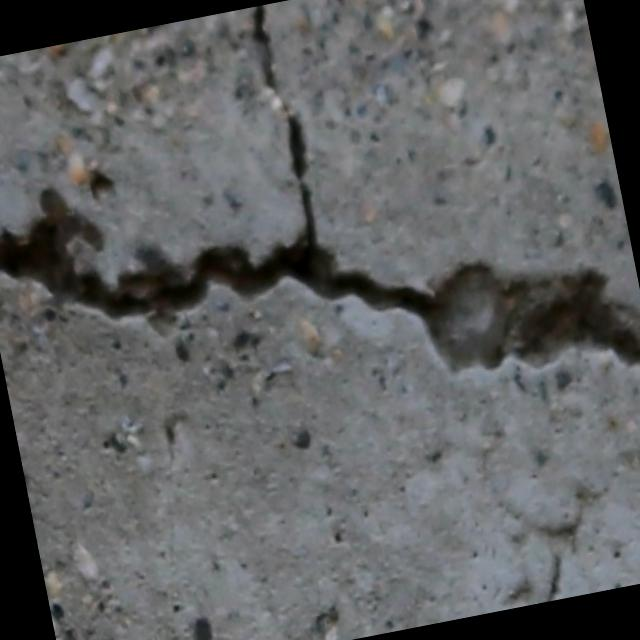crack: (0, 73, 640, 515), (244, 3, 306, 134)
